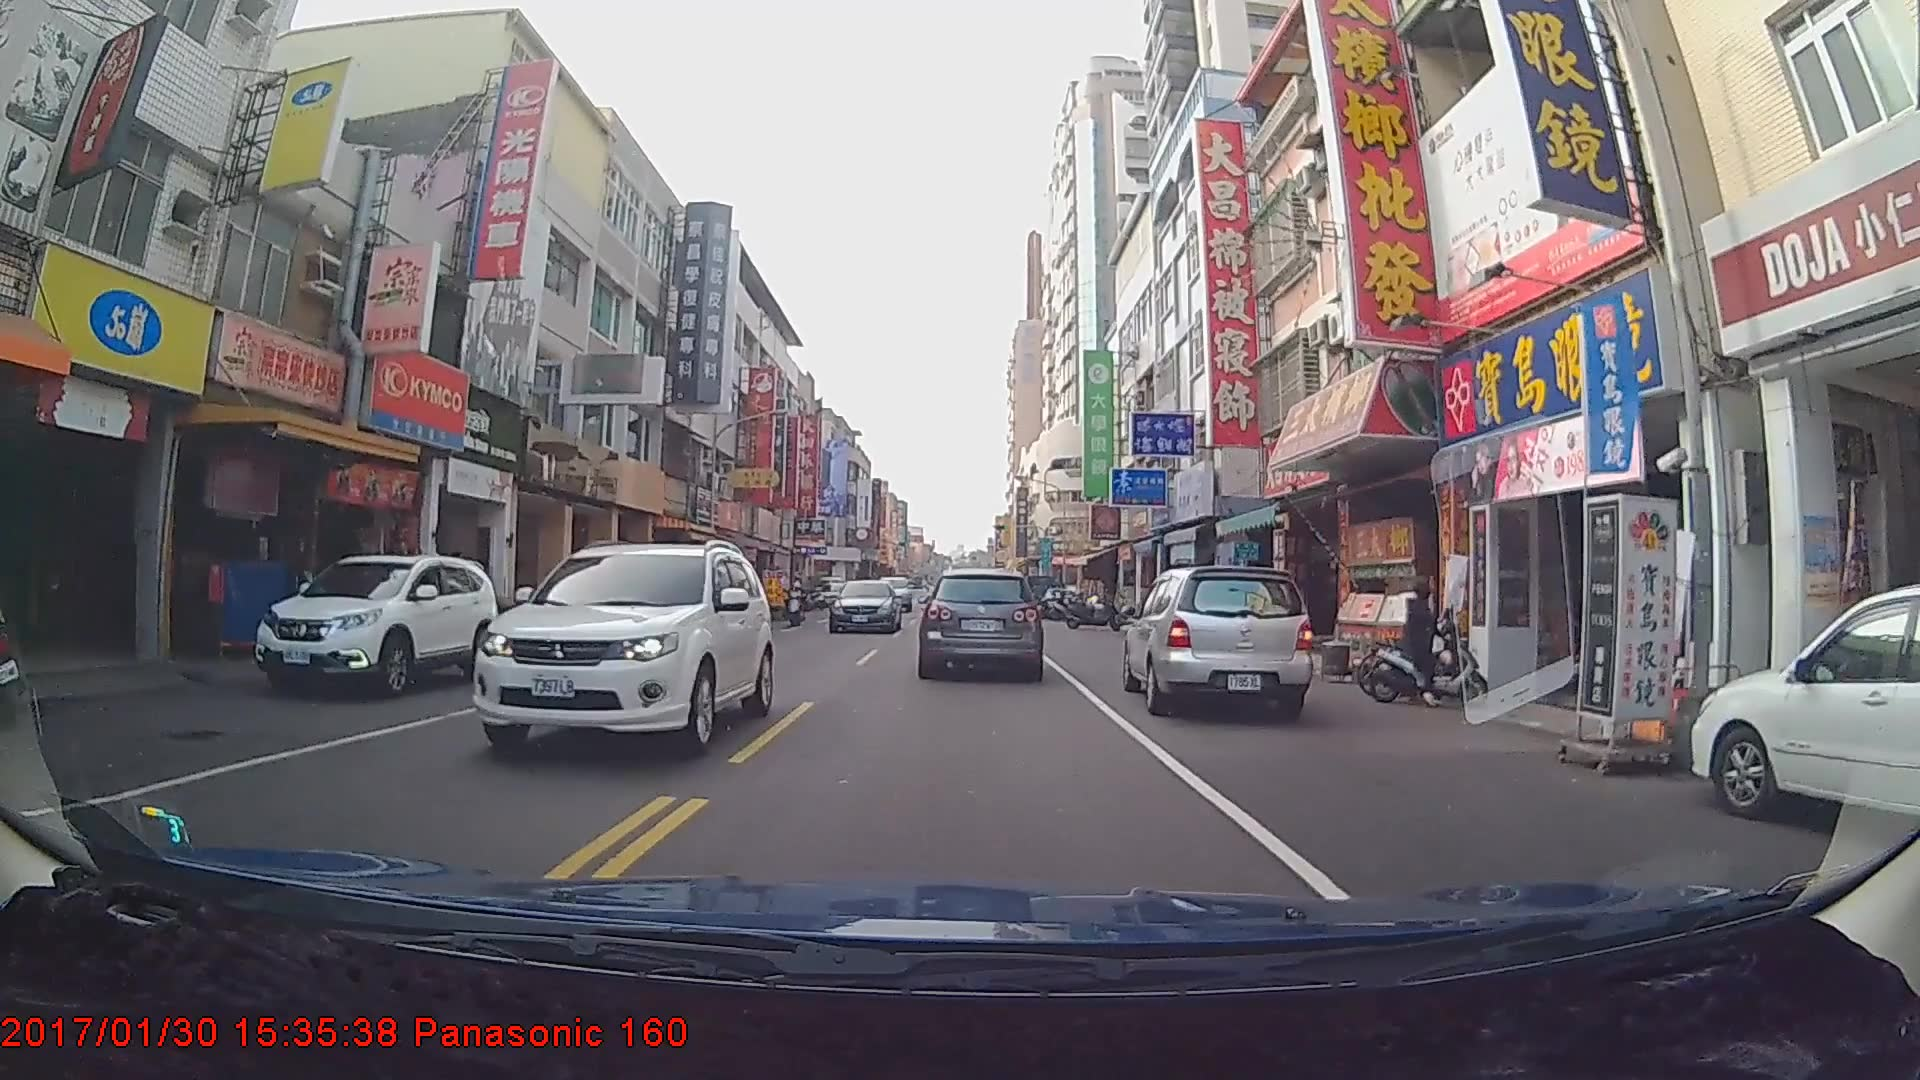rider: (1366, 574, 1499, 718)
vehicle: (1692, 573, 1920, 876), (469, 541, 774, 764), (256, 553, 498, 700), (1121, 563, 1315, 724), (919, 569, 1042, 678), (825, 577, 901, 635), (870, 573, 911, 611)
